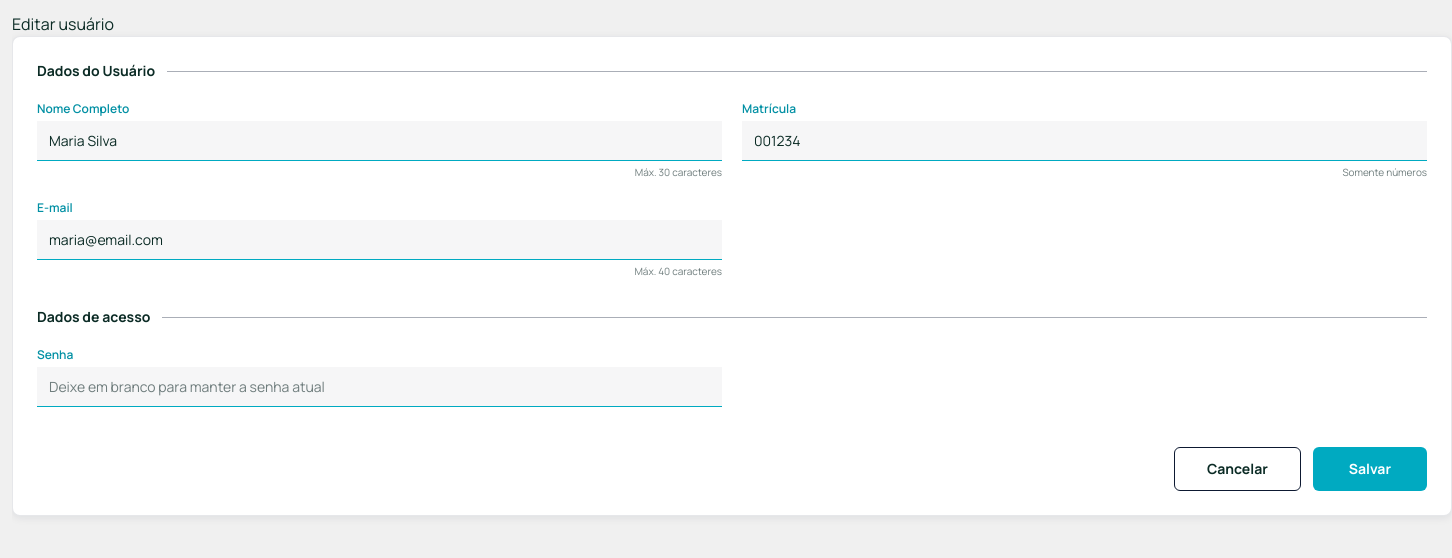
Test: UserEditPage › shows an email conflict returned by the API
Expected: the heading "Editar usuário" is shown, [12,13,114,35]
Click the button "Salvar": (1370, 469) [1313,447,1427,491]
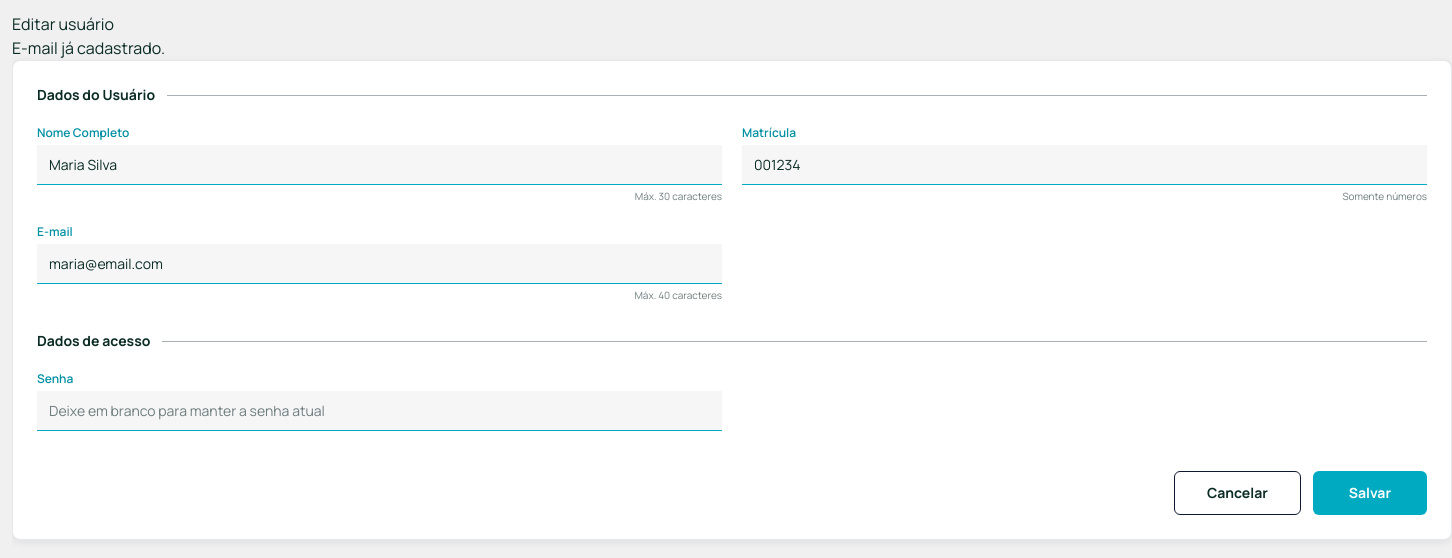
Now the message reads "E-mail já cadastrado.", box [12,37,165,59]
